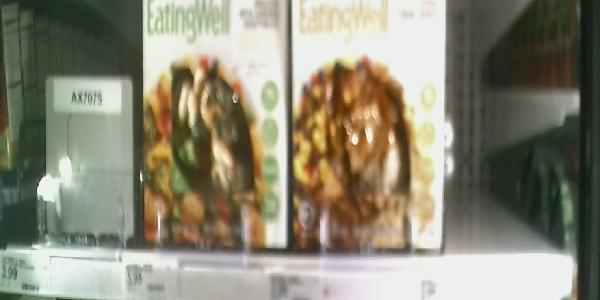pizza1: (291, 1, 443, 250), (145, 1, 289, 256)
